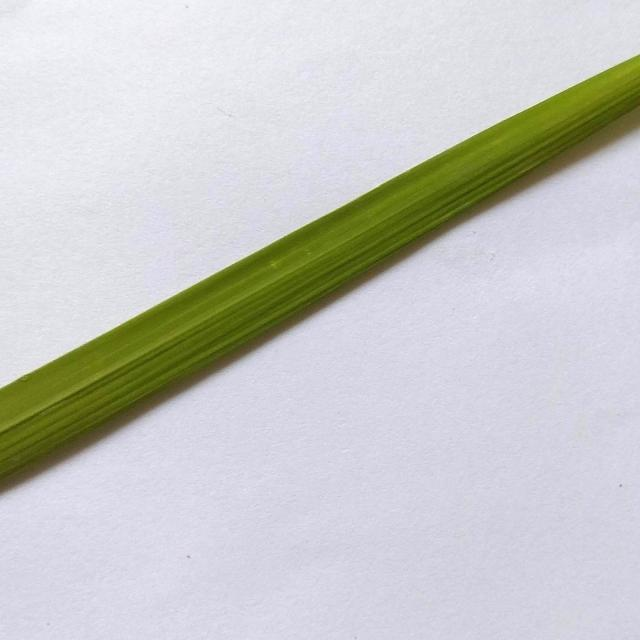healthy: (0, 51, 640, 504)
